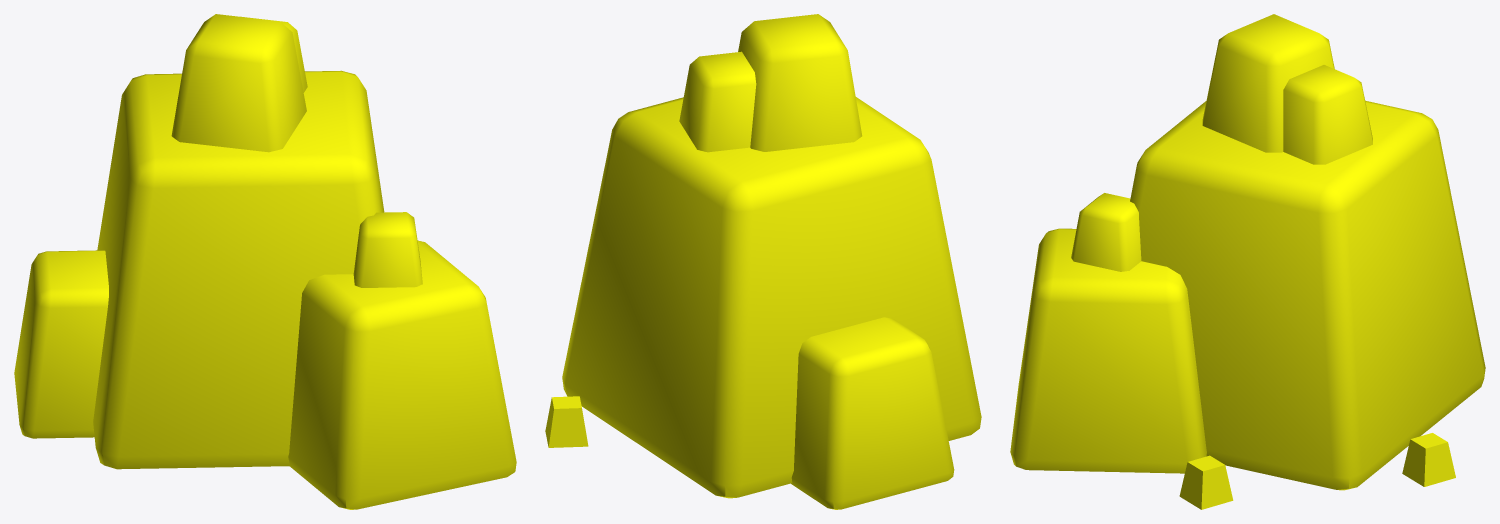
File: kaykit-rock-2-e-color-1.glb
3 views of the same model, side by side, from view 1: azimuth 30°, elevation 25°; view 2: azimuth 150°, elevation 25°; view 3: azimuth 270°, elevation 25° (orthographic). The views are drawn at different scales.
Visible parts, largest first — view 1: Rock_2_E_Color1; view 2: Rock_2_E_Color1; view 3: Rock_2_E_Color1.
Part boxes in pixels (box(x1,y1,x2,y2)): Rock_2_E_Color1: box(14, 14, 516, 509); Rock_2_E_Color1: box(545, 14, 981, 509); Rock_2_E_Color1: box(1010, 14, 1485, 509).
Size of the model in its own units: 3.17 by 2.86 by 3.31.
